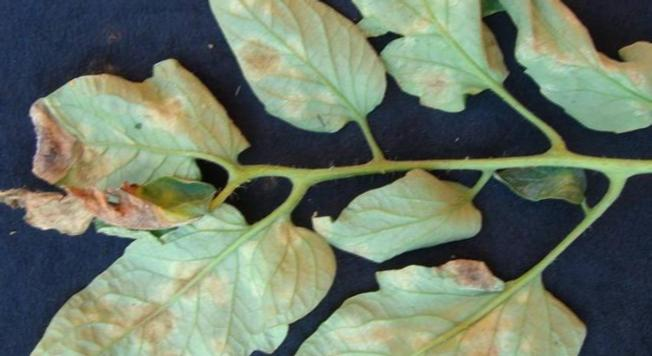Tomato mold leaf: (22, 191, 350, 356), (221, 252, 614, 356), (38, 55, 248, 184), (196, 0, 394, 132), (330, 0, 514, 119), (492, 0, 652, 130), (320, 170, 498, 268)
